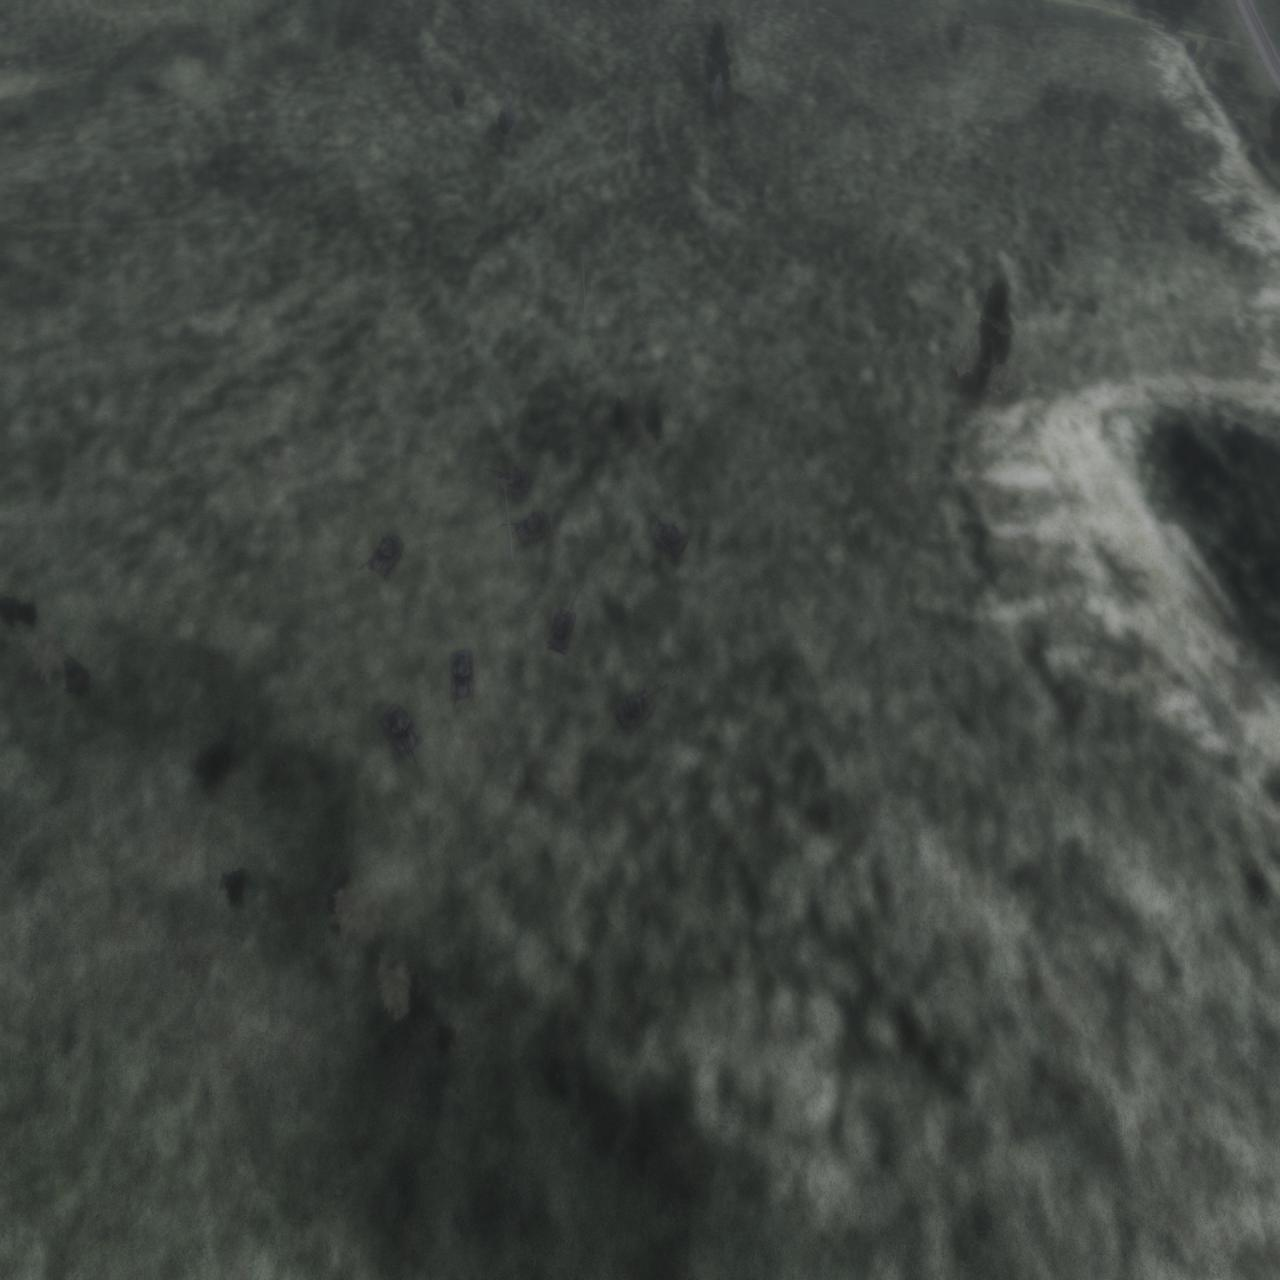MIL_Veh: (375, 701, 418, 762), (646, 505, 688, 565), (617, 681, 670, 727), (481, 457, 532, 497), (549, 591, 579, 654), (363, 531, 404, 578), (501, 506, 550, 544), (448, 644, 476, 707)
